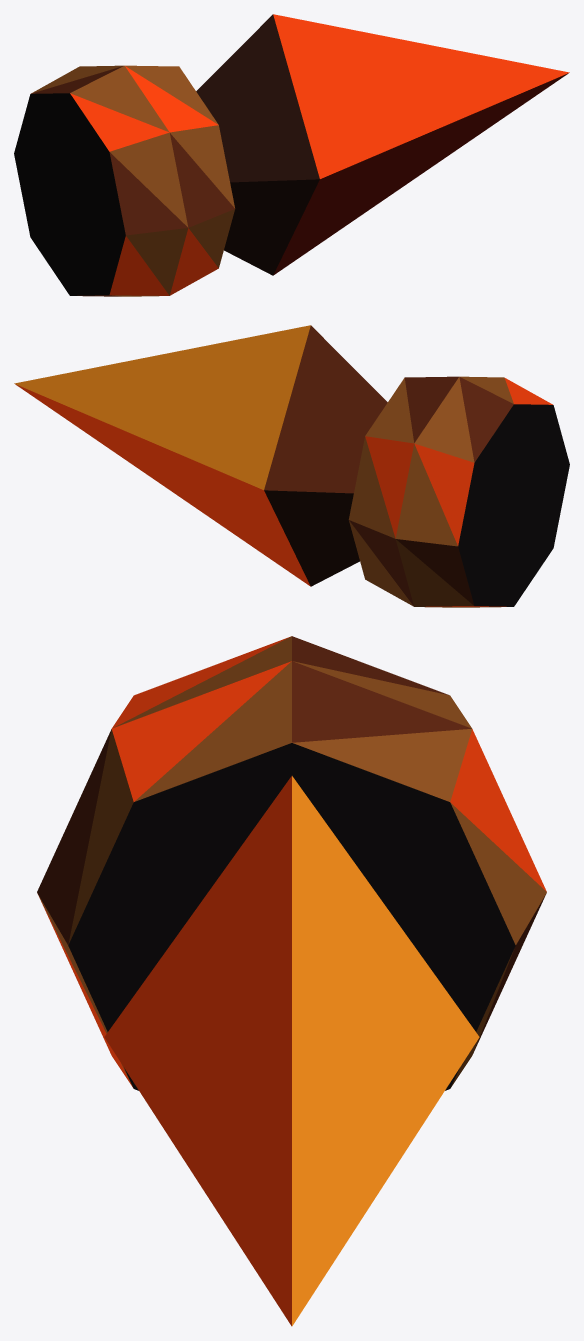
File: boss_emitter.obj
3 views of the same model, one above another, from view 1: azimuth 30°, elevation 25°; view 2: azimuth 150°, elevation 25°; view 3: azimuth 270°, elevation 25° (orthographic). The views are drawn at different scales.
Parts seen in each view (by area): view 1: Emitter_Lance_M4, Emitter_Lance_M1, Emitter_Octagonal_Collar_M0, Emitter_Octagonal_Collar_M3, Emitter_Lance_M6, Emitter_Octagonal_Collar_M4, Emitter_Octagonal_Collar_M2; view 2: Emitter_Lance_M5, Emitter_Octagonal_Collar_M0, Emitter_Octagonal_Collar_M3, Emitter_Lance_M2, Emitter_Lance_M4, Emitter_Octagonal_Collar_M2, Emitter_Octagonal_Collar_M4, Emitter_Lance_M1; view 3: Emitter_Octagonal_Collar_M0, Emitter_Lance_M4, Emitter_Lance_M5, Emitter_Octagonal_Collar_M3, Emitter_Octagonal_Collar_M2, Emitter_Octagonal_Collar_M4.
Boxes of the visible parts, box(x1,y1,x2,y2) form: Emitter_Lance_M4: box(273, 14, 569, 178); Emitter_Lance_M1: box(196, 14, 319, 275); Emitter_Octagonal_Collar_M0: box(14, 93, 125, 295); Emitter_Octagonal_Collar_M3: box(31, 65, 234, 296); Emitter_Lance_M6: box(273, 73, 568, 275); Emitter_Octagonal_Collar_M4: box(70, 66, 218, 295); Emitter_Octagonal_Collar_M2: box(31, 66, 234, 296); Emitter_Lance_M5: box(14, 325, 310, 489); Emitter_Octagonal_Collar_M0: box(458, 404, 569, 606); Emitter_Octagonal_Collar_M3: box(348, 376, 513, 607); Emitter_Lance_M2: box(264, 325, 387, 493); Emitter_Lance_M4: box(15, 384, 310, 586); Emitter_Octagonal_Collar_M2: box(349, 376, 513, 605); Emitter_Octagonal_Collar_M4: box(365, 378, 552, 606); Emitter_Lance_M1: box(264, 490, 359, 586); Emitter_Octagonal_Collar_M0: box(68, 743, 515, 1090); Emitter_Lance_M4: box(104, 776, 291, 1326); Emitter_Lance_M5: box(292, 776, 479, 1326); Emitter_Octagonal_Collar_M3: box(38, 636, 546, 1087); Emitter_Octagonal_Collar_M2: box(37, 636, 546, 1053); Emitter_Octagonal_Collar_M4: box(39, 636, 546, 1087).
Size of the model in its own units: 1.6 by 0.8 by 0.7068.
